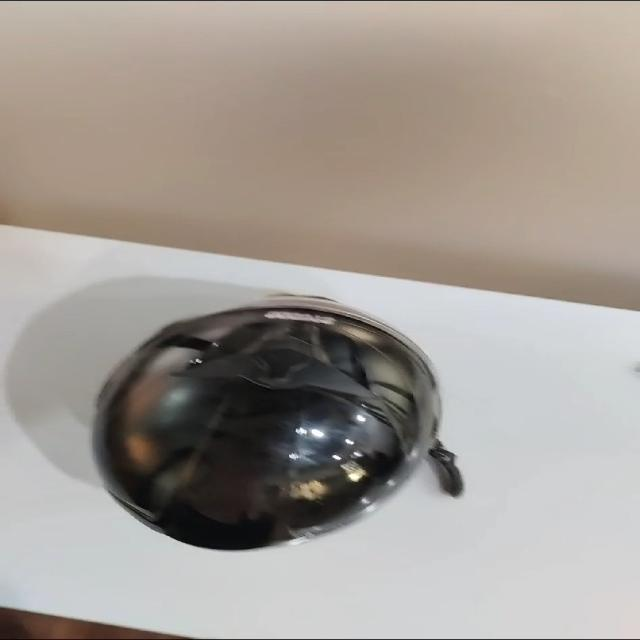helmet: (104, 308, 428, 562)
